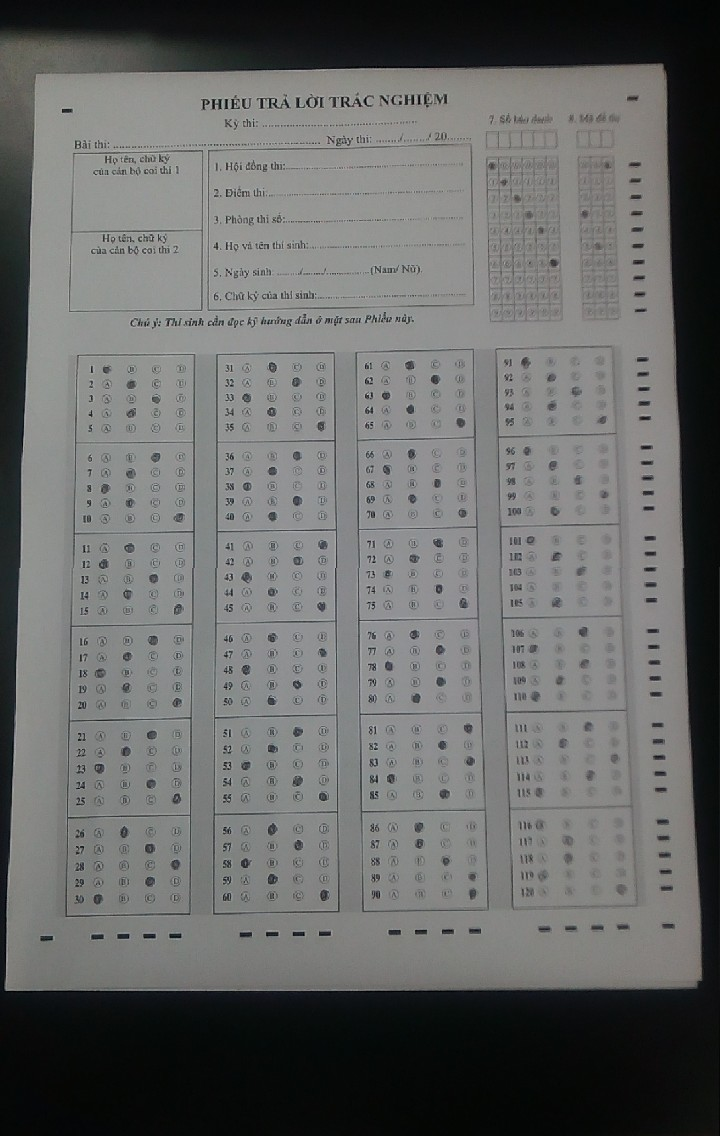bot_left: (1, 965, 25, 1010)
bot_right: (676, 958, 720, 1013)
top_left: (20, 50, 62, 100)
top_right: (634, 43, 684, 89)
